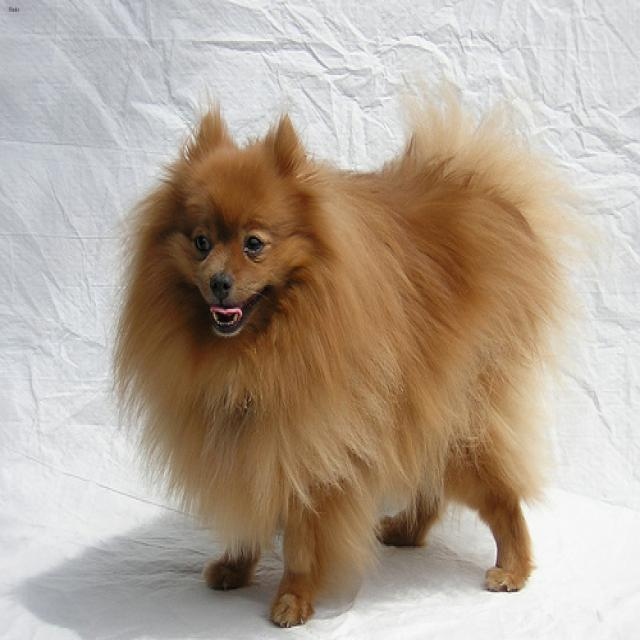dog-pomeranian: (106, 87, 573, 633)
